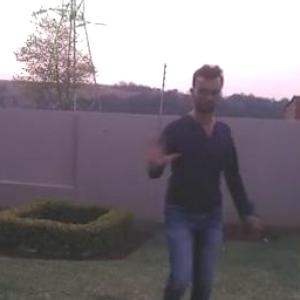follow_hand: (140, 130, 183, 169)
